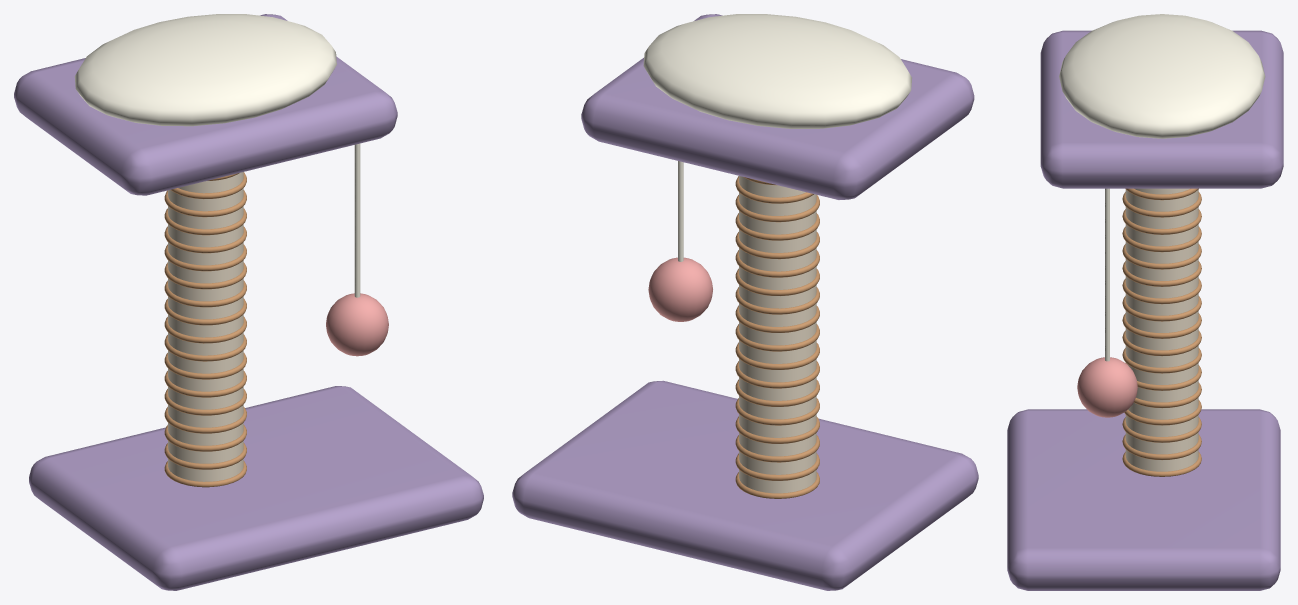
Rendered from toy-scratchPostPurple.glb.
3 renders of one model, left to right at view 1: azimuth 30°, elevation 25°; view 2: azimuth 150°, elevation 25°; view 3: azimuth 270°, elevation 25°, orthographic. The views are drawn at different scales.
Visible parts, largest first — view 1: Cat tree base, Upper perch, Cushion, Sisal post, Dangling toy, Hanging toy string, Rope ring.004, Rope ring.005, Rope ring.007, Rope ring.010, Rope ring.003, Rope ring.006 (+9 smaller); view 2: Cat tree base, Upper perch, Cushion, Sisal post, Dangling toy, Rope ring.012, Rope ring.014, Rope ring.010, Rope ring.006, Rope ring.008, Rope ring.002, Rope ring.004 (+10 smaller); view 3: Cat tree base, Cushion, Upper perch, Sisal post, Dangling toy, Hanging toy string, Rope ring.006, Rope ring.009, Rope ring.012, Rope ring.015, Rope ring.002, Rope ring.011 (+11 smaller).
Boxes of the visible parts, x1,y1,x2,y2 form: Cat tree base: [29, 386, 483, 590]; Upper perch: [14, 14, 397, 195]; Cushion: [74, 14, 336, 126]; Sisal post: [168, 172, 243, 481]; Dangling toy: [326, 293, 388, 356]; Hanging toy string: [354, 143, 360, 297]; Rope ring.004: [164, 389, 246, 415]; Rope ring.005: [164, 371, 246, 397]; Rope ring.007: [164, 334, 246, 361]; Rope ring.010: [164, 280, 246, 307]; Rope ring.003: [164, 407, 246, 433]; Rope ring.006: [164, 353, 246, 379]; Cat tree base: [512, 380, 978, 590]; Upper perch: [581, 14, 974, 199]; Cushion: [643, 14, 911, 128]; Sisal post: [739, 176, 816, 493]; Dangling toy: [648, 257, 712, 321]; Rope ring.012: [735, 250, 819, 277]; Rope ring.014: [735, 213, 819, 240]; Rope ring.010: [735, 287, 819, 314]; Rope ring.006: [735, 361, 819, 388]; Rope ring.008: [735, 324, 819, 351]; Rope ring.002: [735, 435, 819, 462]; Rope ring.004: [735, 398, 819, 425]; Cat tree base: [1007, 409, 1280, 590]; Cushion: [1059, 14, 1265, 138]; Upper perch: [1040, 30, 1283, 188]; Sisal post: [1125, 188, 1198, 471]; Dangling toy: [1077, 357, 1137, 417]; Hanging toy string: [1105, 188, 1109, 361]; Rope ring.006: [1122, 348, 1201, 373]; Rope ring.009: [1122, 296, 1201, 321]; Rope ring.012: [1122, 244, 1201, 269]; Rope ring.015: [1122, 192, 1201, 217]; Rope ring.002: [1122, 417, 1201, 442]; Rope ring.011: [1122, 261, 1201, 286].
Size of the model in its own units: 1.25 by 1.64 by 0.91.
